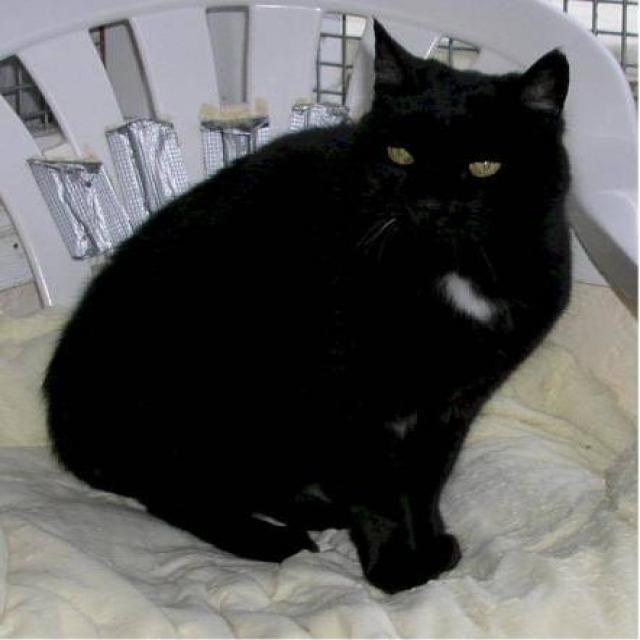cat: (39, 14, 573, 595)
